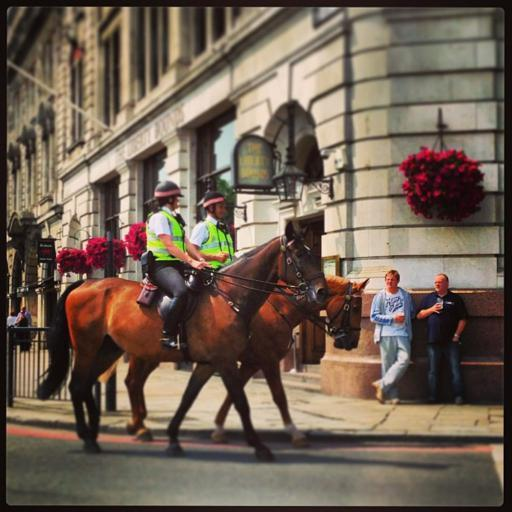Horse: (35, 215, 331, 456), (95, 269, 373, 445)
